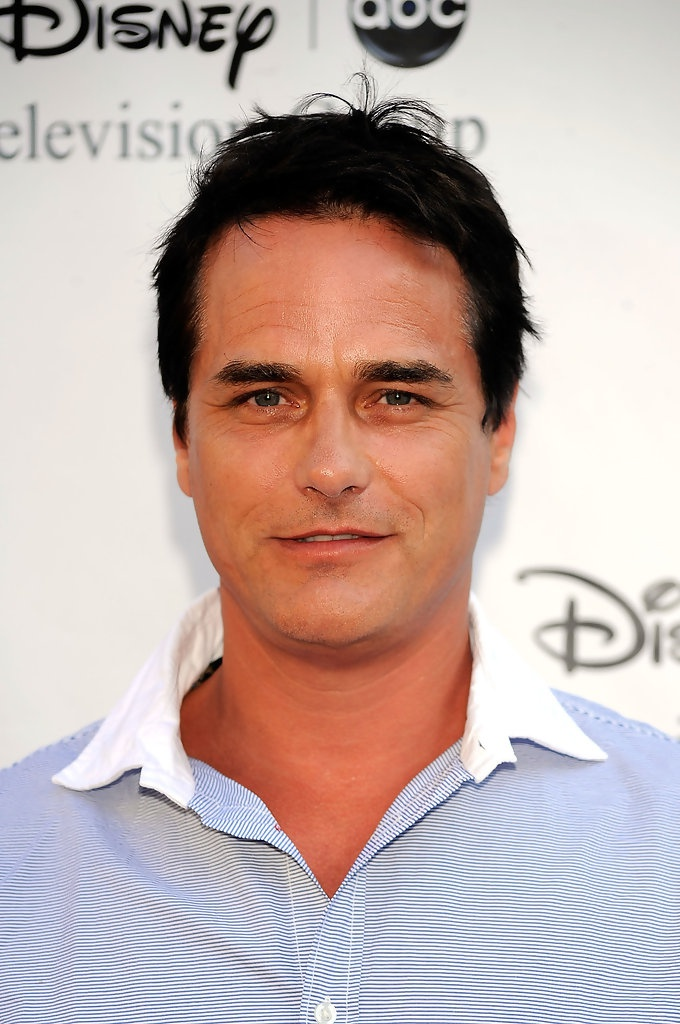bad: (170, 313, 491, 634)
